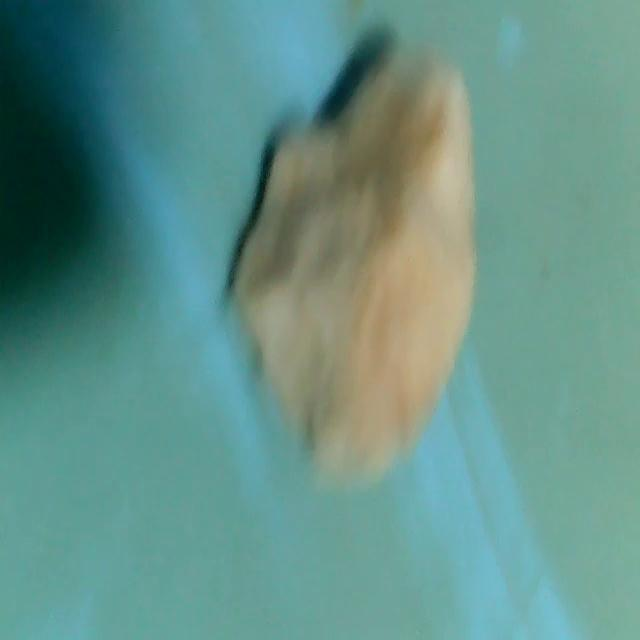rock: (235, 54, 496, 484)
